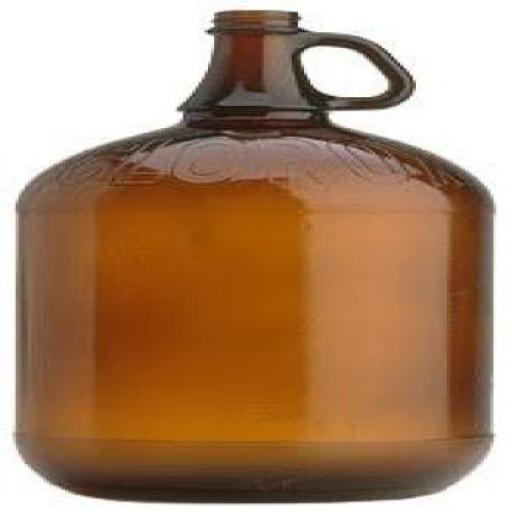glass: (12, 9, 490, 502)
